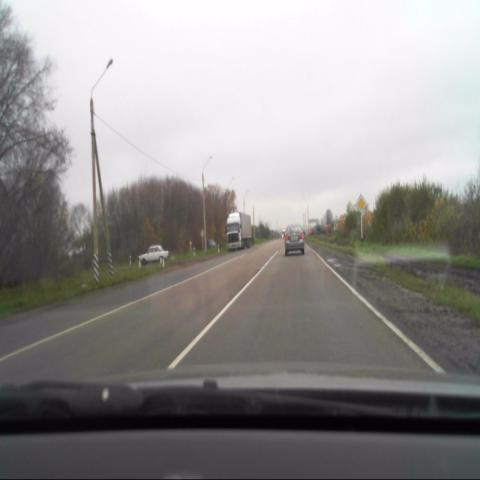2_1: (356, 194, 366, 215)
